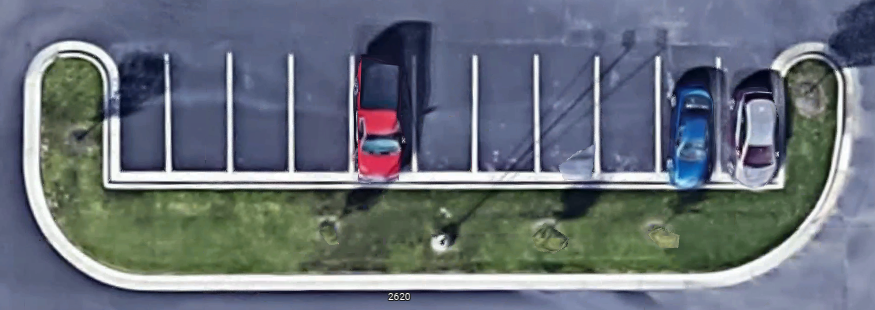Occupied: (352, 54, 414, 176), (657, 56, 718, 176), (719, 56, 777, 177)
Vacant: (229, 53, 292, 176), (167, 53, 229, 176), (475, 55, 538, 175), (536, 55, 598, 174), (597, 56, 658, 176), (291, 54, 351, 175), (415, 54, 474, 175), (114, 54, 169, 176)
